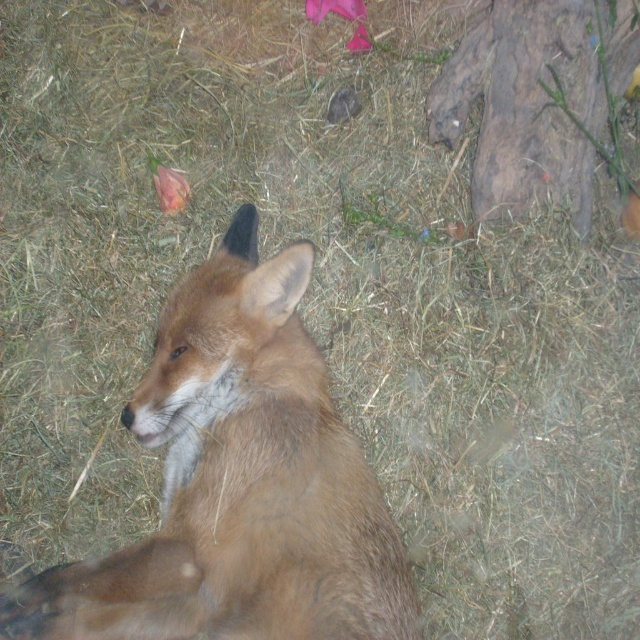Fox: (0, 203, 426, 639)
